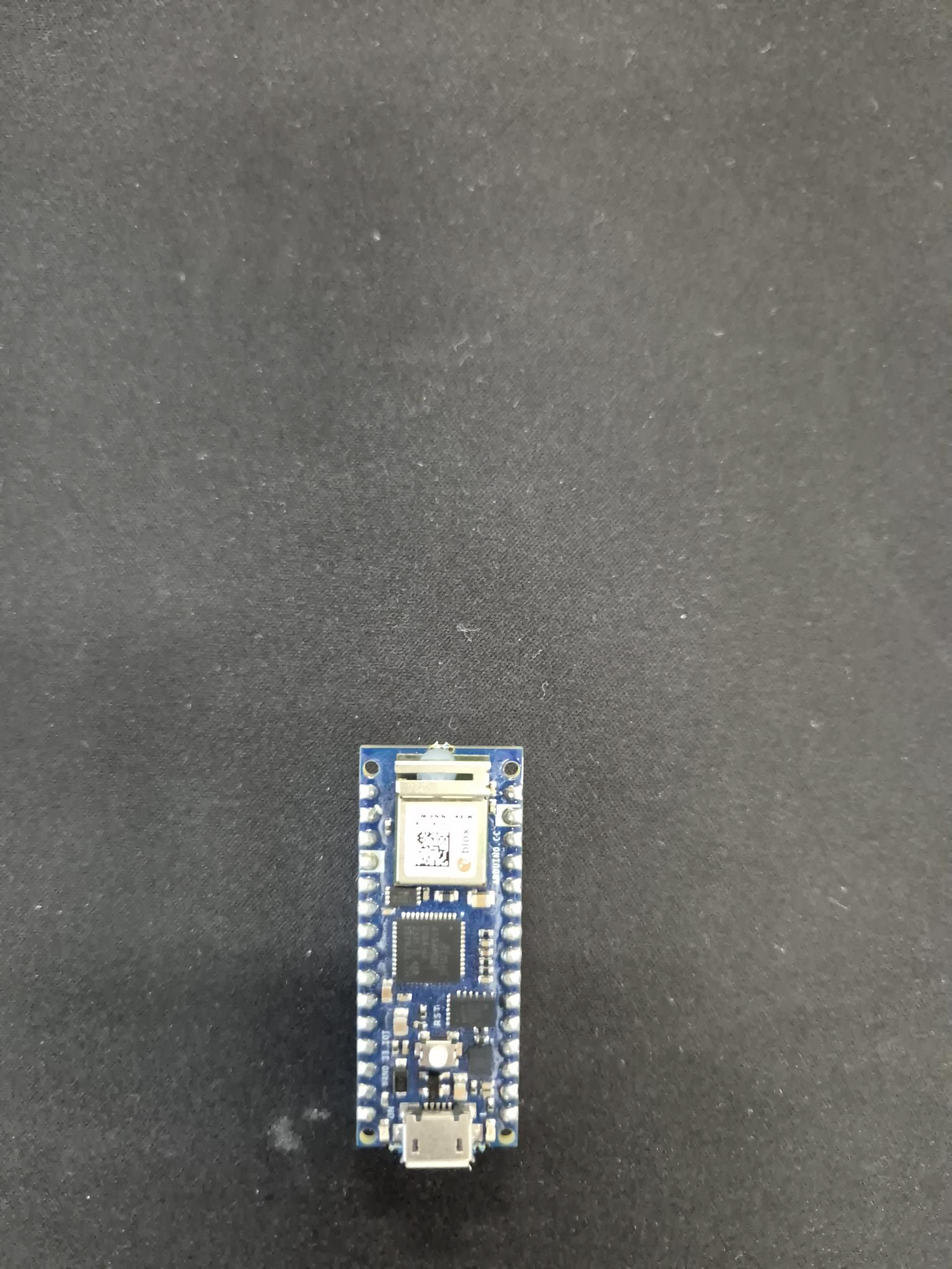arduino-nano-iot-33: (356, 744, 523, 1168)
